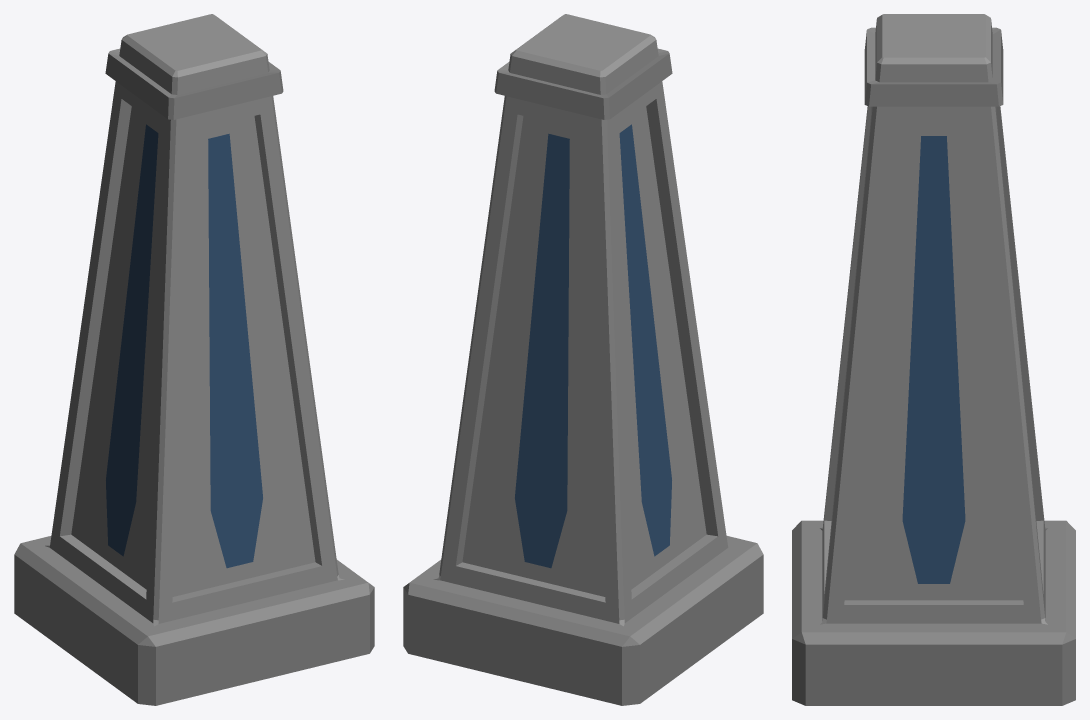
Rendered from shrine.glb.
The picture shows the model from 3 angles, left to right: view 1: azimuth 30°, elevation 25°; view 2: azimuth 150°, elevation 25°; view 3: azimuth 270°, elevation 25°; orthographic projection. The views are drawn at different scales.
Visible parts, largest first — view 1: Cube; view 2: Cube; view 3: Cube.
Boxes of the visible parts, x1=… form: Cube: x1=14, y1=14, x2=374, y2=705; Cube: x1=403, y1=14, x2=763, y2=705; Cube: x1=792, y1=14, x2=1075, y2=705.
Bounding box in the file's own units: 2.54 × 6.03 × 2.54.
